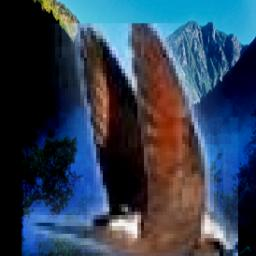Cuckoo: (23, 23, 238, 256)
